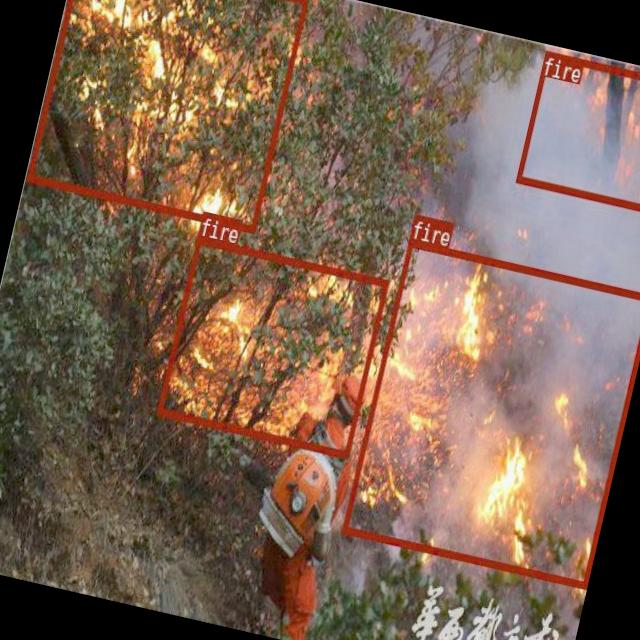fire: (341, 237, 640, 586), (26, 0, 307, 231), (156, 236, 388, 456), (515, 49, 640, 215)
